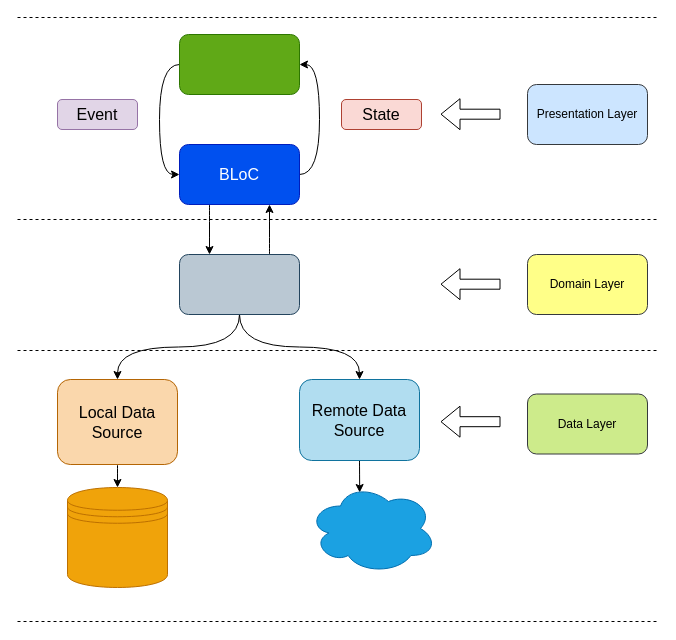
The diagram is 676 pixels wide and 640 high, and some of its shapes have lost their labels. Each missing label, with the centre of its shape:
API: (372,528)
Repository: (239,284)
SQLite: (117,537)
View / UI: (239,64)
